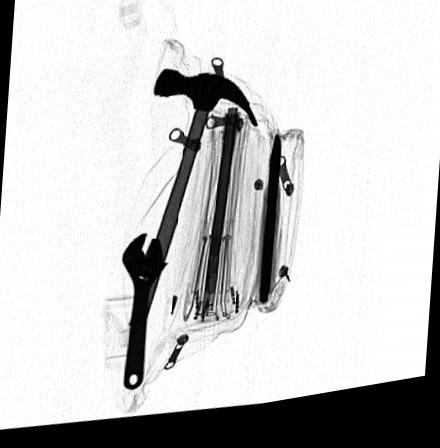Hammer: (128, 74, 258, 331)
Pliers: (260, 141, 282, 322)
Wrench: (121, 236, 169, 397)
